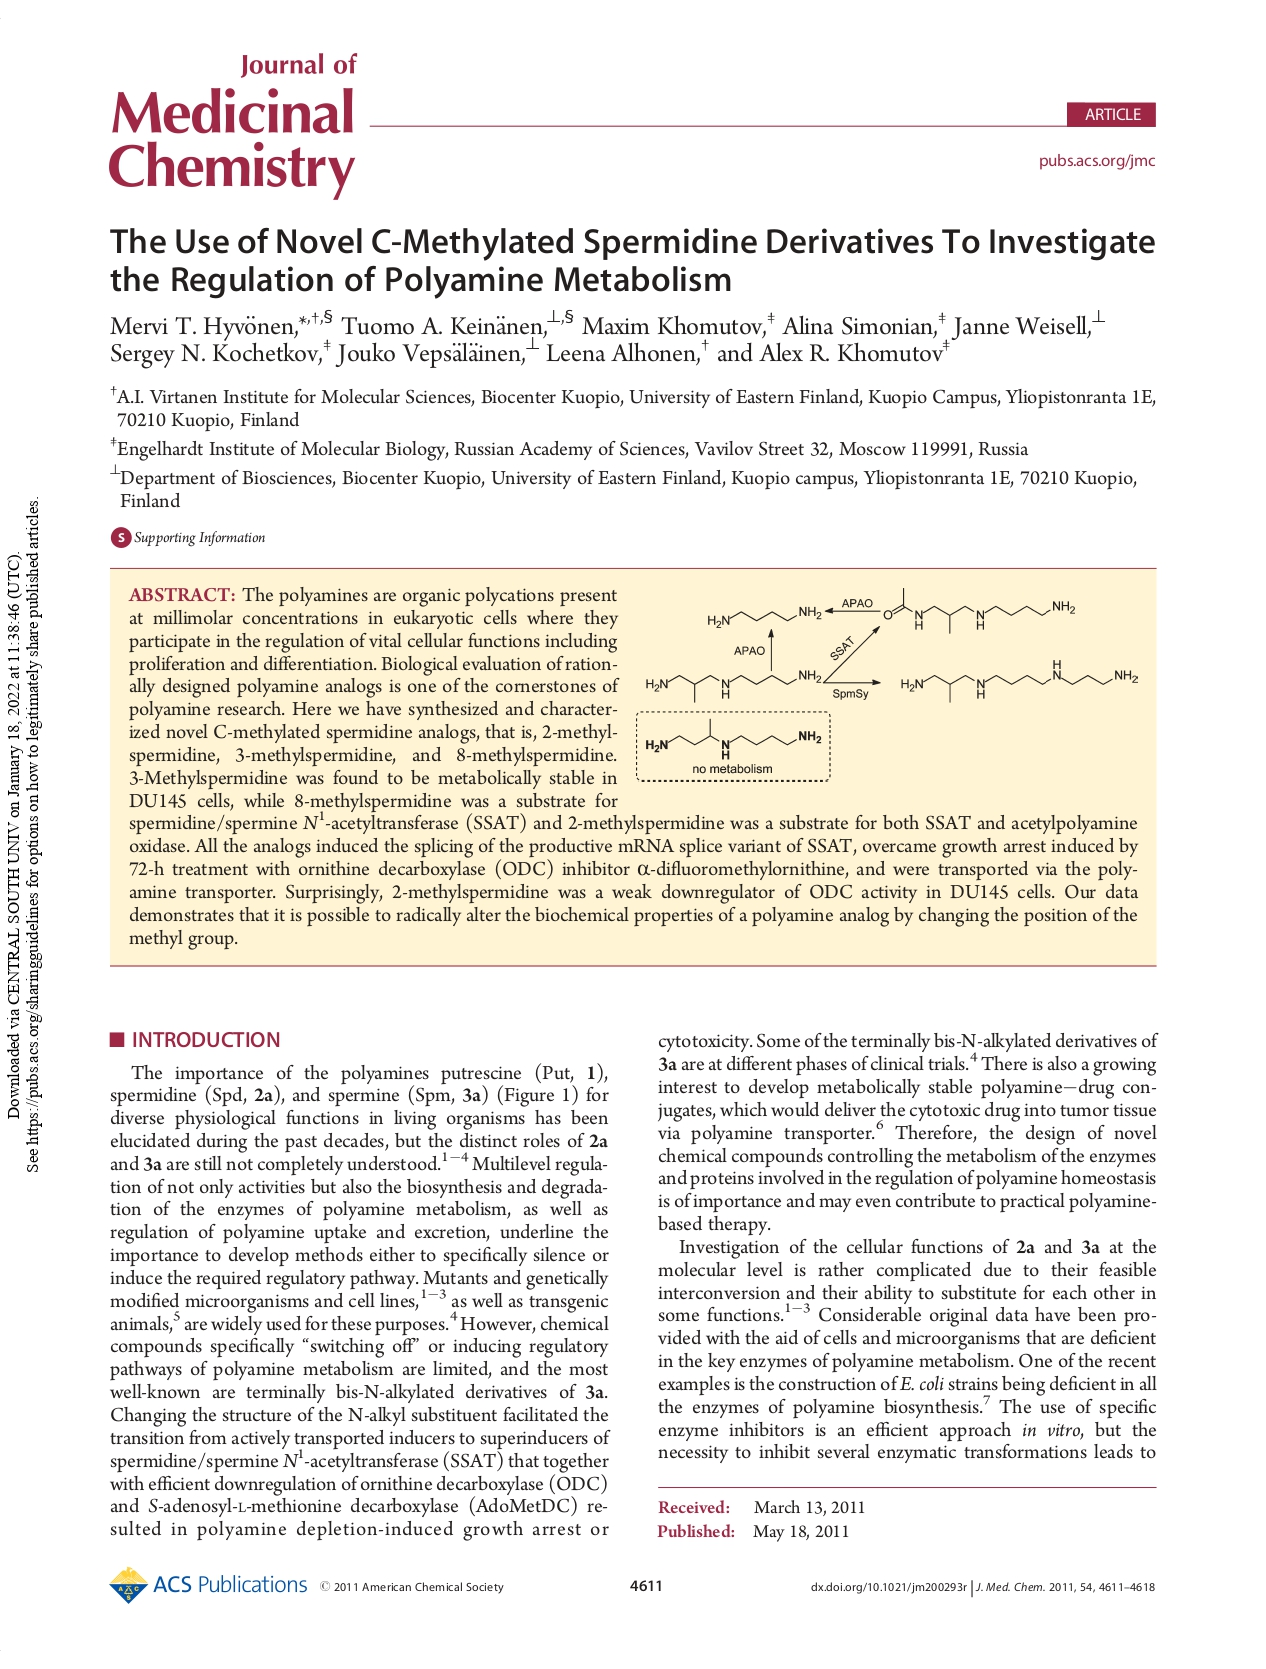exist_molecular: (900, 656, 1141, 706), (883, 585, 1076, 634), (644, 715, 824, 763), (642, 668, 822, 705), (705, 605, 824, 629)
